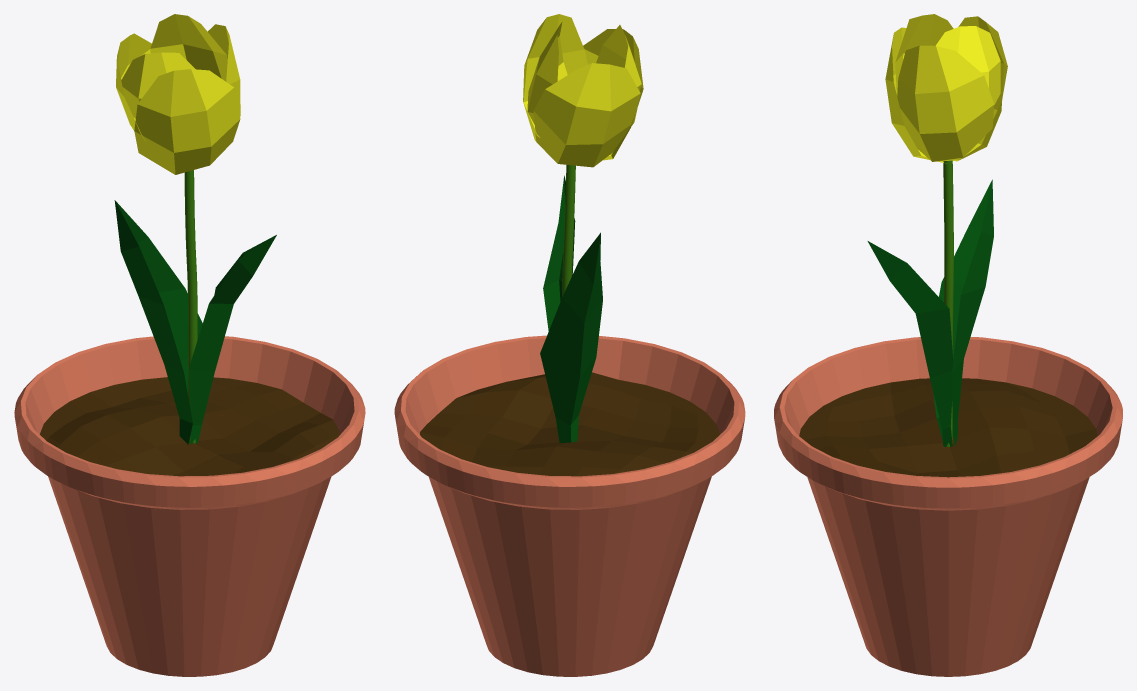
File: flower_state_neutral2.glb
3 views of the same model, side by side, from view 1: azimuth 30°, elevation 25°; view 2: azimuth 150°, elevation 25°; view 3: azimuth 270°, elevation 25° (orthographic).
Parts seen in each view (by area): view 1: Pot, Dirt, Bulb, Leafs, Stem; view 2: Pot, Dirt, Bulb, Leafs, Stem; view 3: Pot, Dirt, Bulb, Leafs, Stem.
Boxes of the visible parts, x1,y1,x2,y2 form: Pot: [14, 336, 365, 676]; Dirt: [39, 377, 340, 476]; Bulb: [116, 14, 240, 174]; Leafs: [114, 200, 276, 444]; Stem: [184, 170, 197, 443]; Pot: [394, 335, 745, 676]; Dirt: [420, 372, 719, 476]; Bulb: [523, 14, 643, 167]; Leafs: [540, 175, 602, 442]; Stem: [562, 165, 575, 296]; Pot: [774, 337, 1122, 676]; Dirt: [799, 378, 1097, 477]; Bulb: [885, 14, 1007, 163]; Leafs: [867, 179, 993, 446]; Stem: [943, 160, 953, 446].
Bounding box in the file's own units: 2.16 × 4.21 × 2.16.
